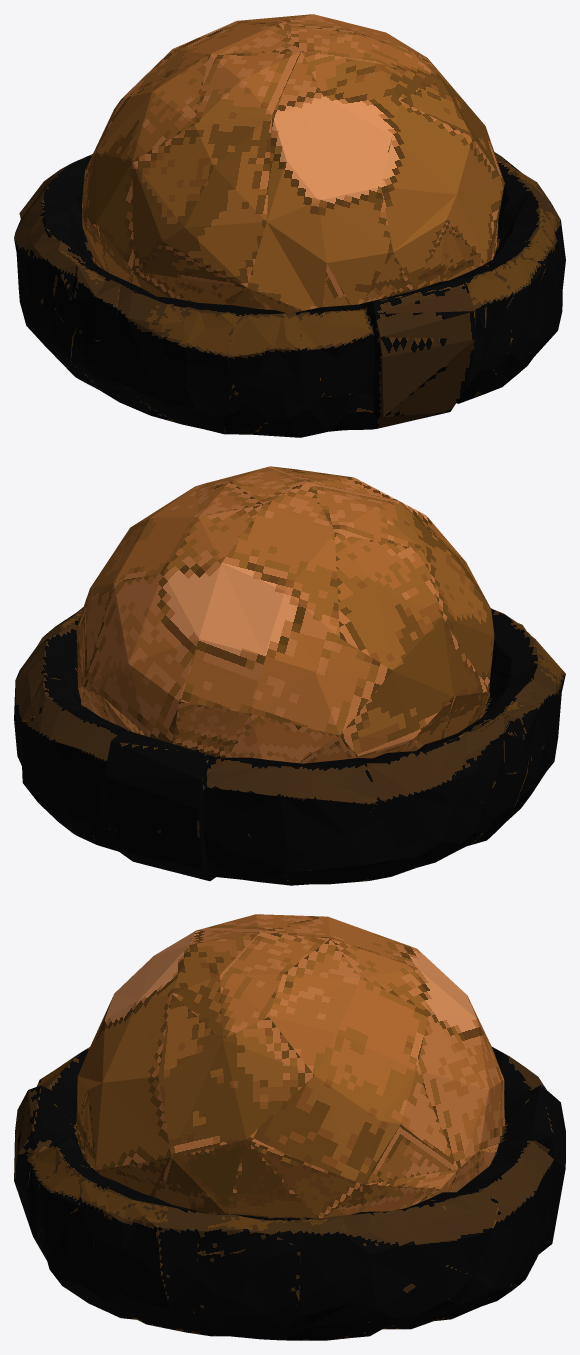
3 renders of one model, top to bottom at view 1: azimuth 30°, elevation 25°; view 2: azimuth 150°, elevation 25°; view 3: azimuth 270°, elevation 25°, orthographic. The views are drawn at different scales.
Visible parts, largest first — view 1: OBJ02c; view 2: OBJ02c; view 3: OBJ02c.
Boxes of the visible parts, box(x1,y1,x2,y2) form: OBJ02c: box(14, 14, 565, 437); OBJ02c: box(14, 466, 565, 885); OBJ02c: box(14, 914, 565, 1340).
Size of the model in its own units: 0.2236 by 0.1408 by 0.2273.
Materials: 1 (1 with a texture image).
